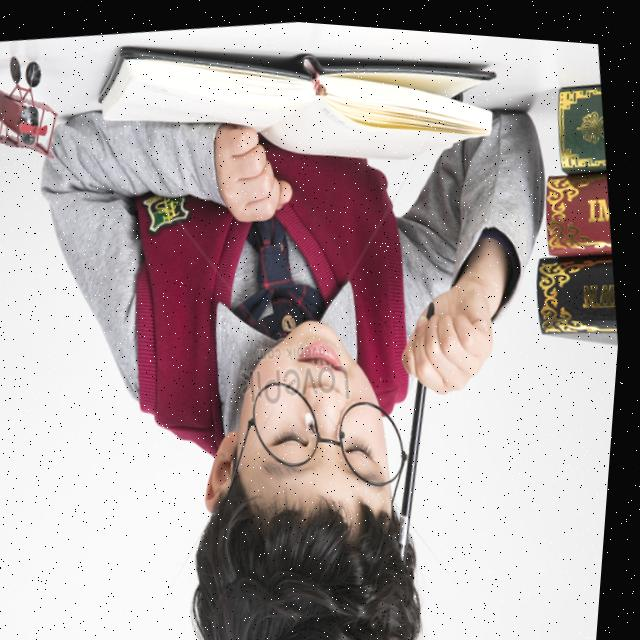studying-person: (0, 1, 622, 640)
